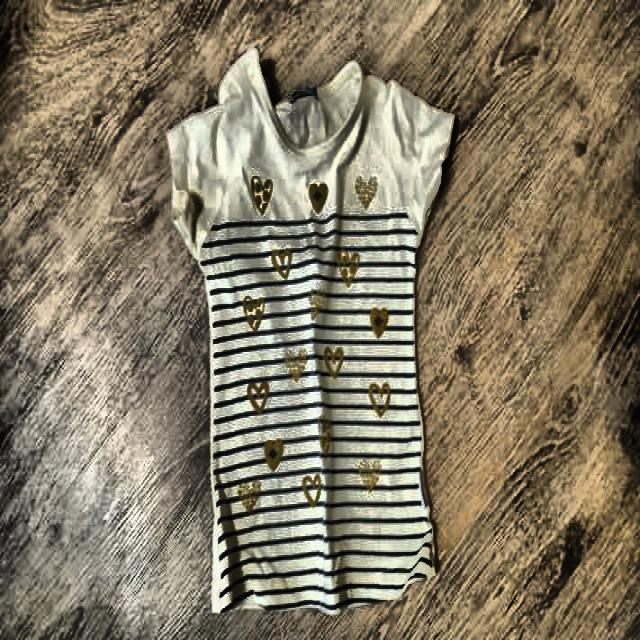clothes: (165, 45, 456, 618)
